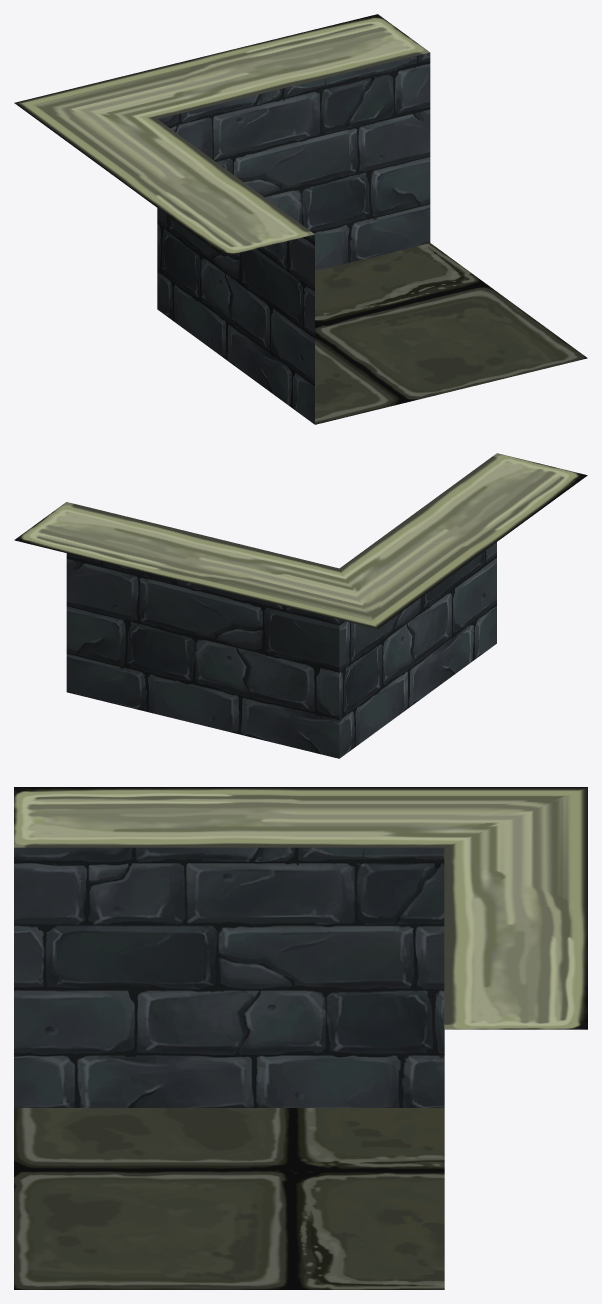
Rendered from corner.fbx.
3 views of the same model, one above another, from view 1: azimuth 30°, elevation 25°; view 2: azimuth 150°, elevation 25°; view 3: azimuth 270°, elevation 25° (orthographic). The views are drawn at different scales.
Visible parts, largest first — view 1: corner_geo; view 2: corner_geo; view 3: corner_geo.
Boxes of the visible parts, box(x1,y1,x2,y2) form: corner_geo: box(14, 14, 587, 424); corner_geo: box(14, 453, 587, 758); corner_geo: box(14, 787, 587, 1289).
Bounding box in the file's own units: 1 × 0.5 × 1.
Materials: 1 (1 with a texture image).
